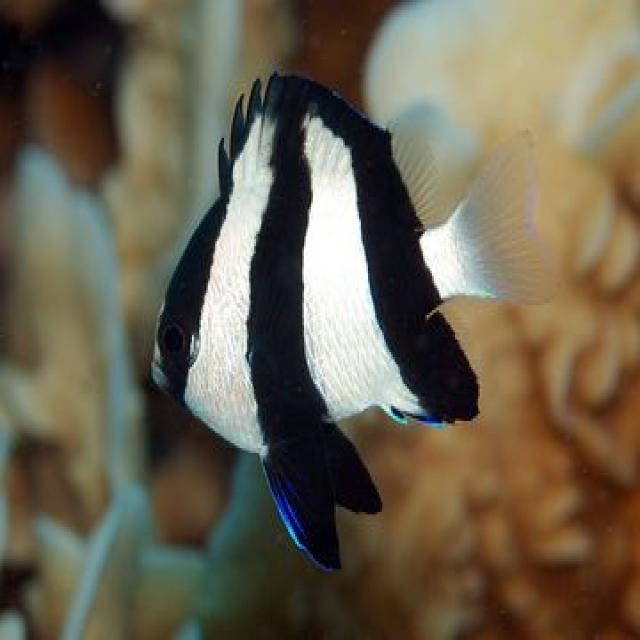Three_striped DasmselFish: (141, 66, 550, 578)
